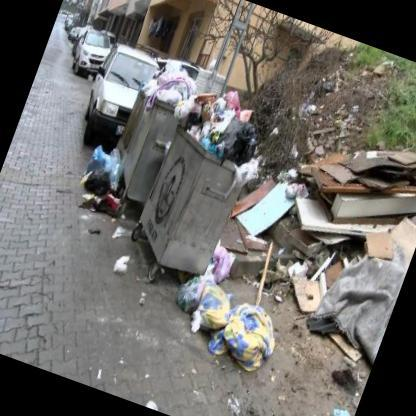Garbage: (174, 86, 268, 169), (74, 143, 128, 216), (144, 60, 202, 116)
